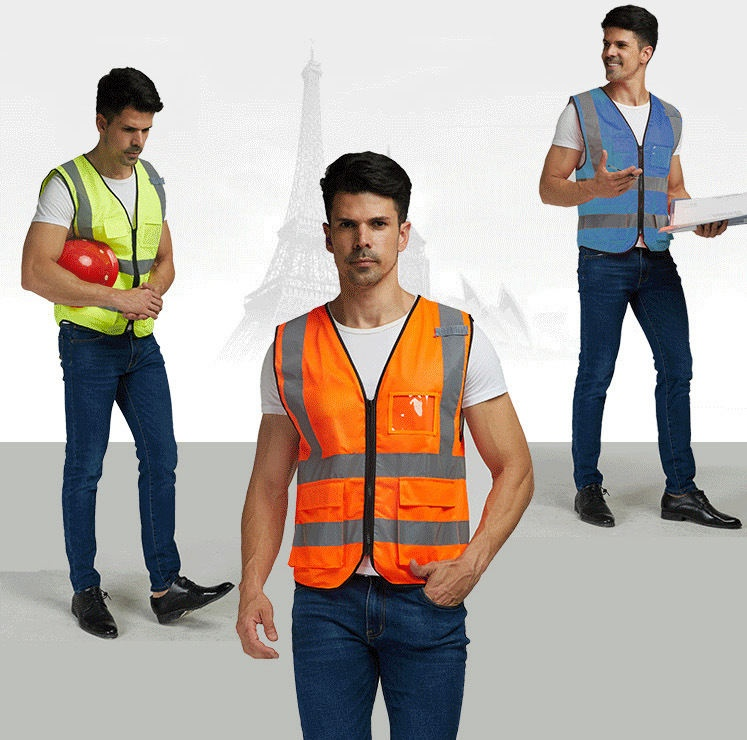helmet: (52, 240, 118, 304)
person with full safety: (17, 67, 231, 642)
person with partial safety: (242, 154, 531, 740), (540, 2, 747, 530)
safety vest: (273, 293, 478, 590), (36, 151, 168, 337), (566, 87, 682, 254)
